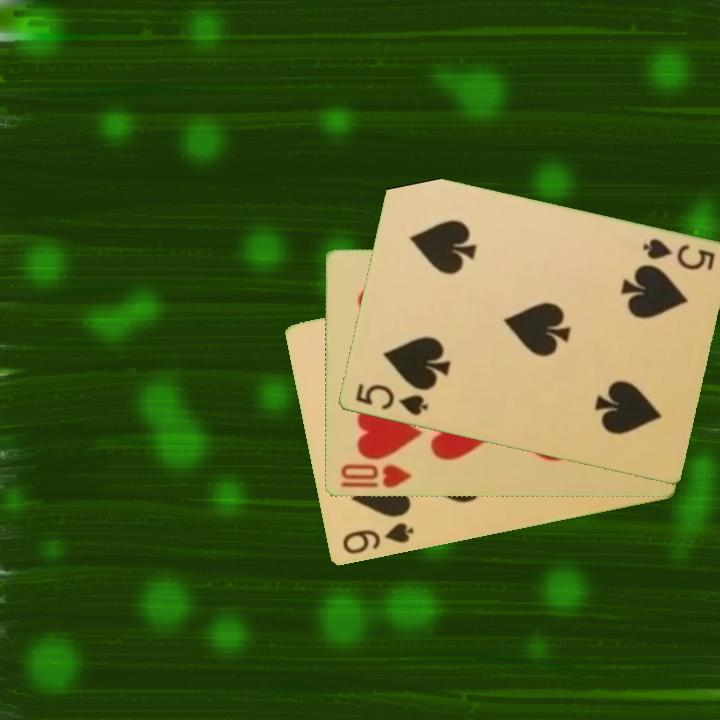10h: (337, 461, 414, 492)
5s: (351, 380, 431, 419), (638, 235, 718, 274)
9s: (338, 519, 416, 558)
